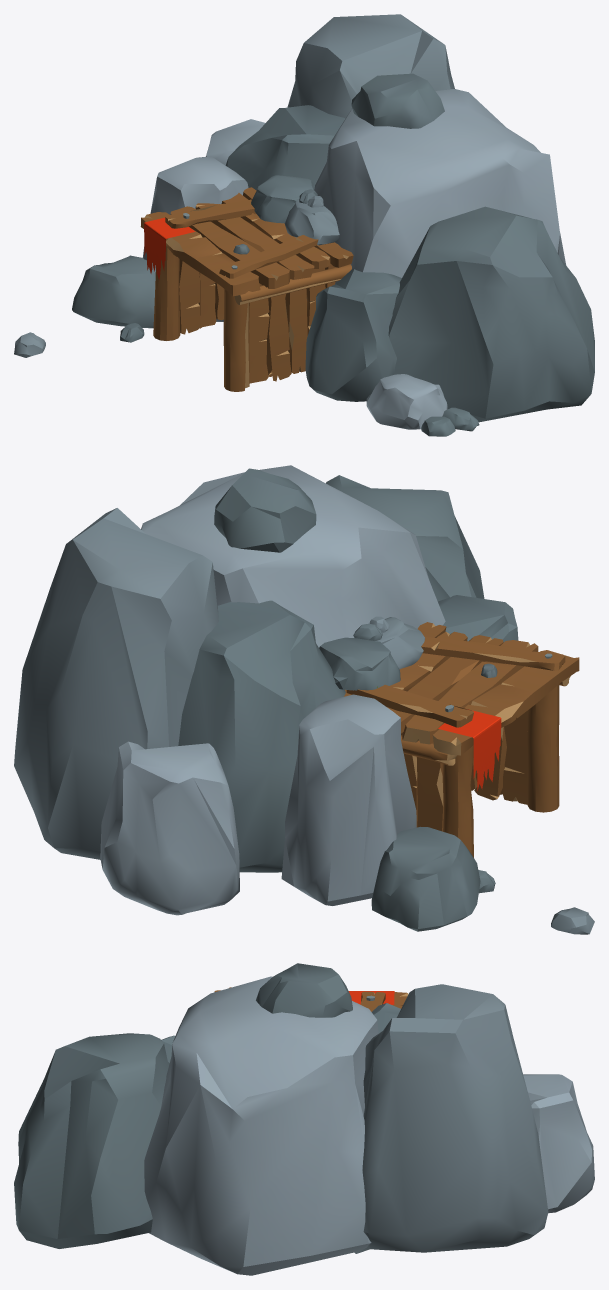
File: goldmine.fbx
3 views of the same model, one above another, from view 1: azimuth 30°, elevation 25°; view 2: azimuth 150°, elevation 25°; view 3: azimuth 270°, elevation 25° (orthographic). The views are drawn at different scales.
Visible parts, largest first — view 1: gold_mine_tire_01.003; view 2: gold_mine_tire_01.003; view 3: gold_mine_tire_01.003.
Part boxes in pixels (x1=…): gold_mine_tire_01.003: x1=14, y1=14, x2=594, y2=436; gold_mine_tire_01.003: x1=14, y1=465, x2=594, y2=934; gold_mine_tire_01.003: x1=14, y1=963, x2=594, y2=1275.
Bounding box in the file's own units: 1596 × 800 × 1689.
Materials: 1 (1 with a texture image).
